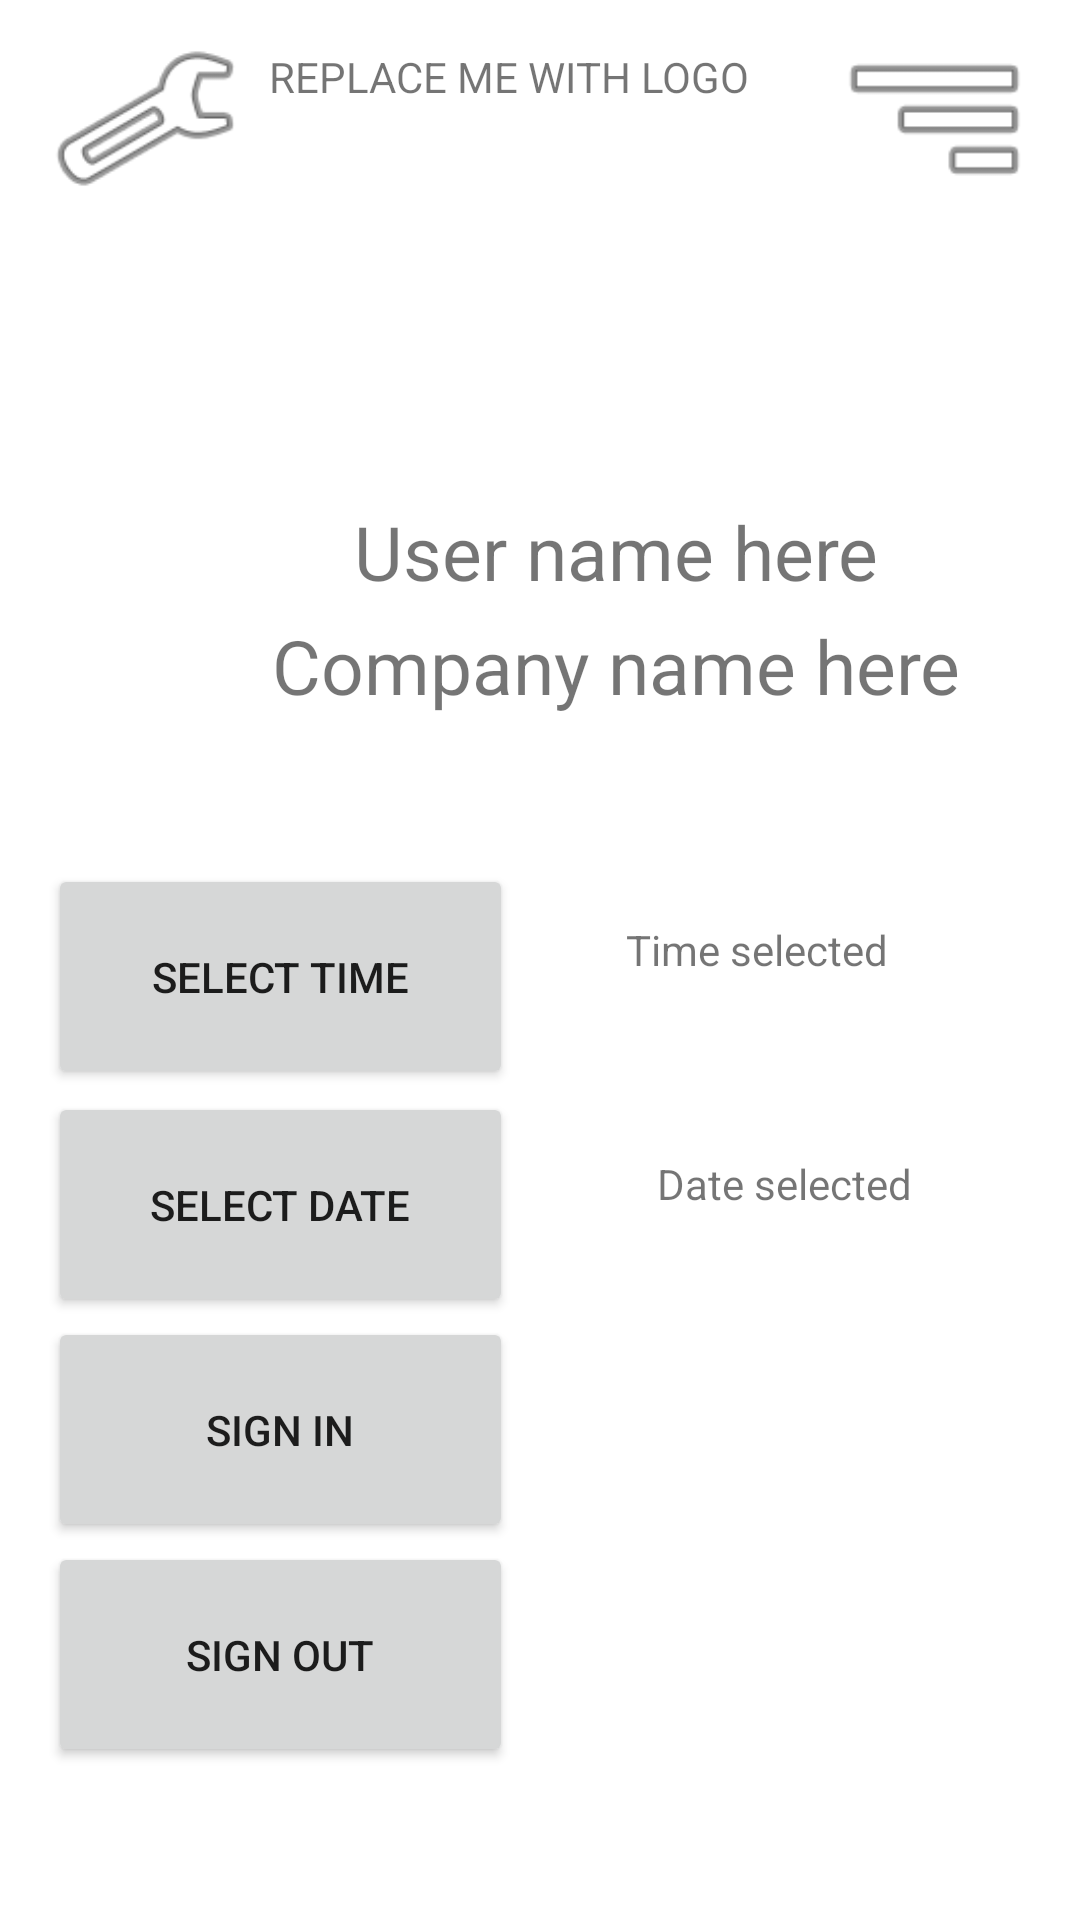

Icons on this 1080×1920 Android screen, each with the point to tap as point (x, y):
manage: point (145, 118)
